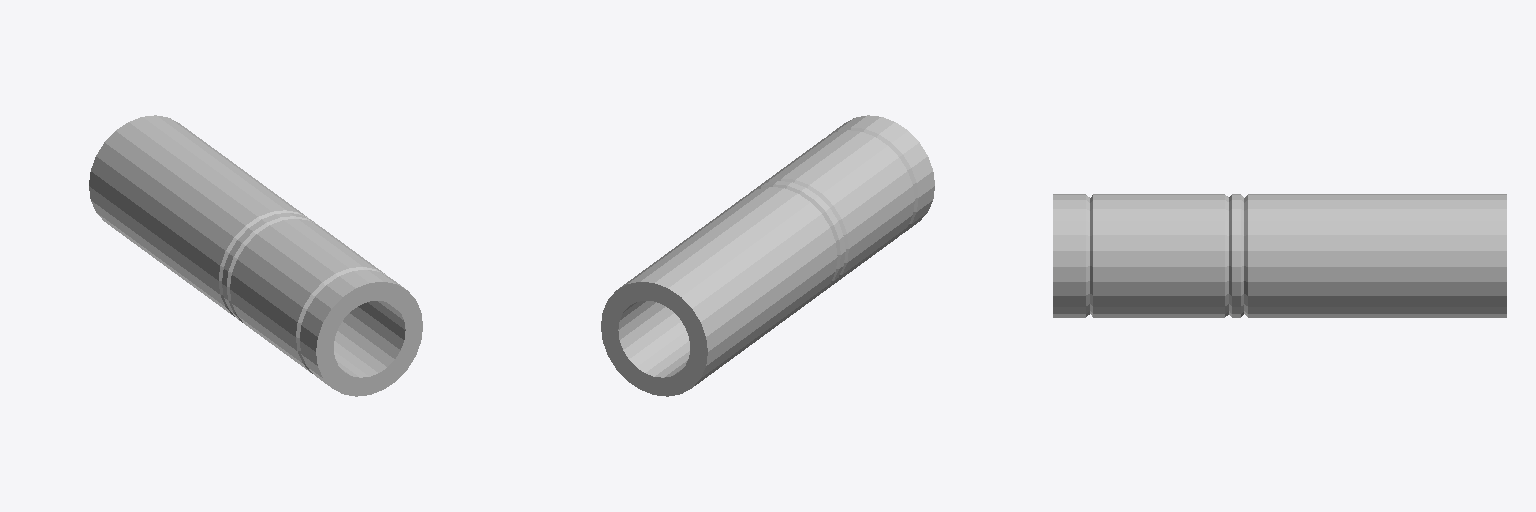
Rendered from zadnja_cev_centered.obj.
3 views of the same model, side by side, from view 1: azimuth 30°, elevation 25°; view 2: azimuth 150°, elevation 25°; view 3: azimuth 270°, elevation 25° (orthographic).
Parts seen in each view (by area): view 1: animacija-SKP-Default_Material; view 2: animacija-SKP-Default_Material; view 3: animacija-SKP-Default_Material.
Boxes of the visible parts, box(x1,y1,x2,y2) form: animacija-SKP-Default_Material: box(89, 115, 422, 396); animacija-SKP-Default_Material: box(601, 115, 934, 396); animacija-SKP-Default_Material: box(1053, 194, 1506, 317).
Bounding box in the file's own units: 0.2133 × 0.2133 × 0.7832.